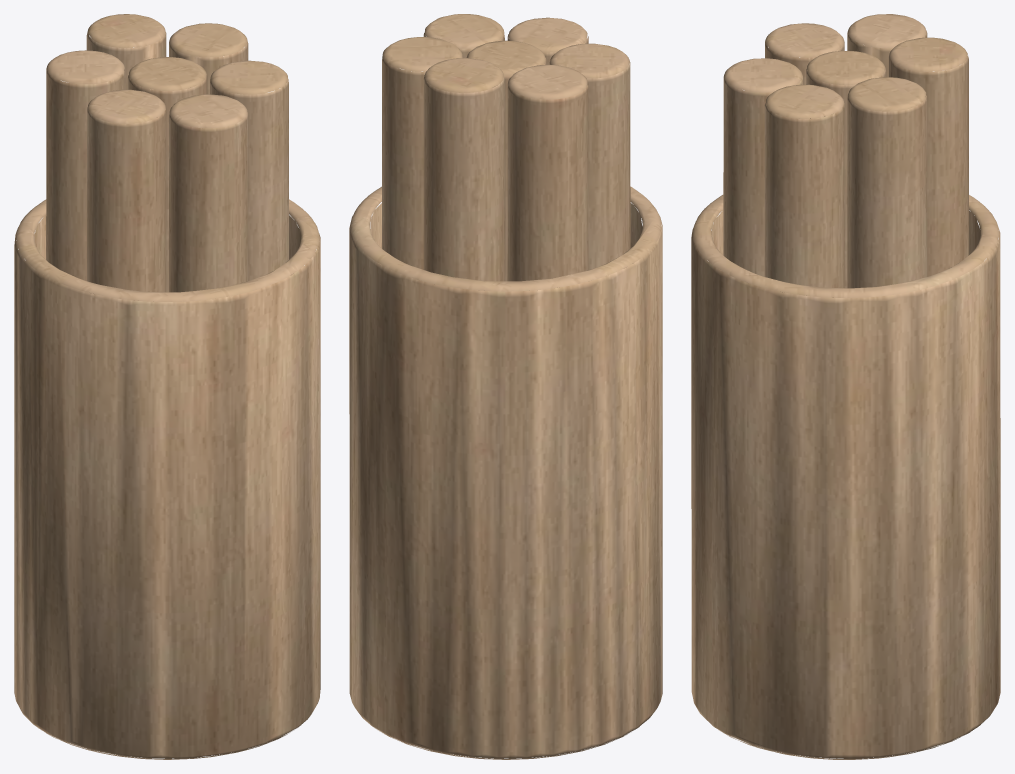
File: cylindra_kral_bily.glb
3 renders of one model, left to right at view 1: azimuth 30°, elevation 25°; view 2: azimuth 150°, elevation 25°; view 3: azimuth 270°, elevation 25°, orthographic. The views are drawn at different scales.
Visible parts, largest first — view 1: Cylindra_Král_bílý; view 2: Cylindra_Král_bílý; view 3: Cylindra_Král_bílý.
Part boxes in pixels (x1,y1,x2,y2): Cylindra_Král_bílý: (14, 14, 320, 759); Cylindra_Král_bílý: (349, 14, 662, 759); Cylindra_Král_bílý: (691, 14, 1000, 759).
Bounding box in the file's own units: 0.03 × 0.069 × 0.03.
Materials: 2 (2 with a texture image).
